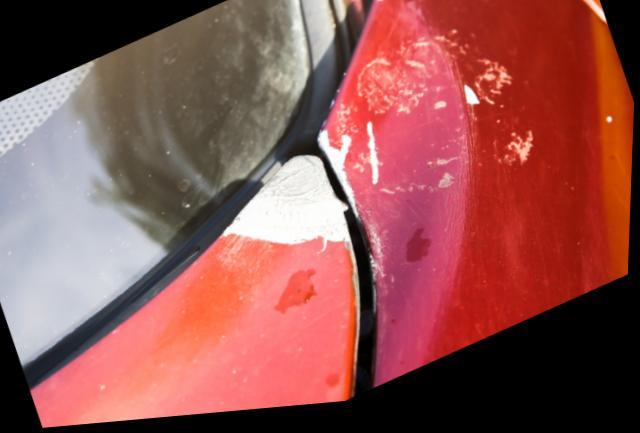scratch: (313, 23, 549, 218), (218, 160, 349, 251)
